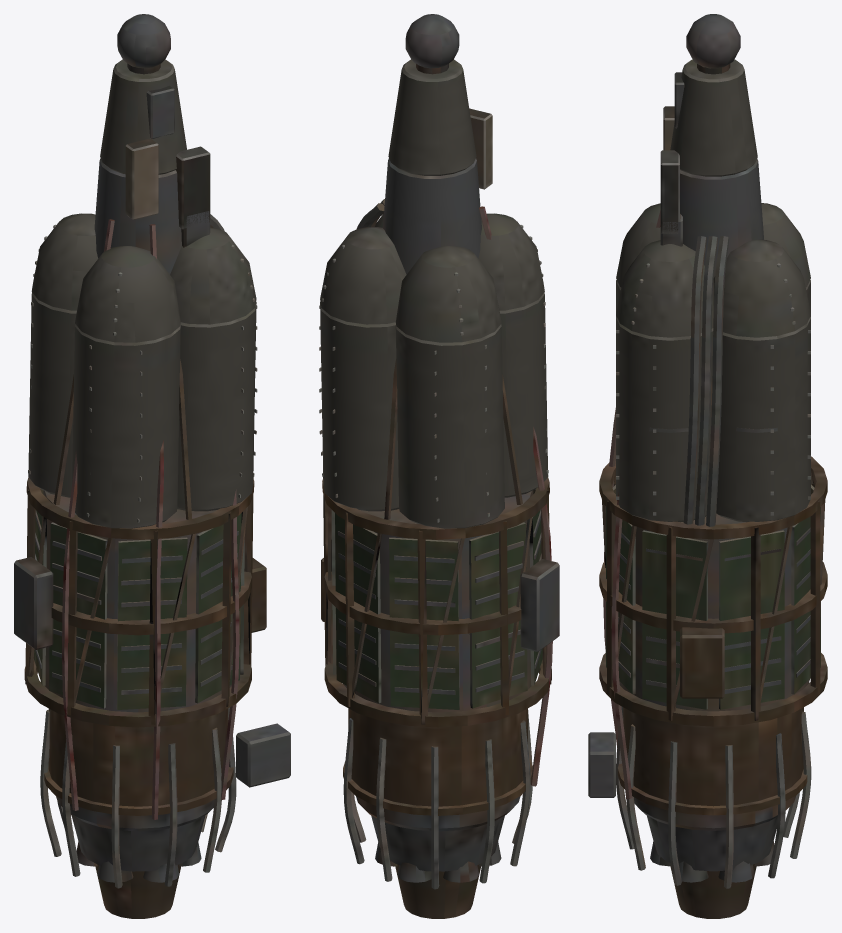
File: rocket-silo-rocket.glb
The picture shows the model from 3 angles, left to right: view 1: azimuth 30°, elevation 25°; view 2: azimuth 150°, elevation 25°; view 3: azimuth 270°, elevation 25°; orthographic projection.
Parts seen in each view (by area): view 1: body; view 2: body; view 3: body.
Part boxes in pixels (box(x1,y1,x2,y2)): body: box(14, 14, 290, 918); body: box(319, 14, 559, 918); body: box(588, 14, 827, 918).
Size of the model in its own units: 4.51 by 16.94 by 4.13.
1 material, 1 textured.
